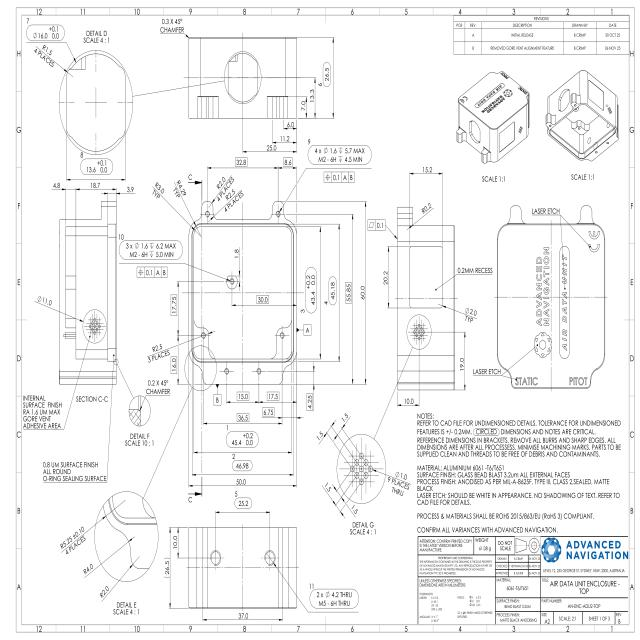dimension: (117, 232, 183, 261), (306, 138, 373, 166), (309, 581, 360, 610), (58, 522, 88, 557), (24, 17, 66, 42), (78, 151, 114, 177), (299, 266, 318, 315), (224, 424, 259, 449), (386, 467, 412, 496), (214, 171, 237, 203), (33, 43, 56, 68), (146, 342, 171, 364), (223, 188, 245, 213), (145, 377, 171, 397), (322, 275, 337, 307), (159, 16, 185, 34), (167, 528, 180, 562), (232, 490, 253, 510), (232, 452, 254, 471), (318, 60, 332, 88), (456, 266, 494, 276), (461, 305, 479, 326), (171, 178, 188, 200), (34, 293, 54, 310), (152, 179, 166, 200), (161, 557, 171, 580), (419, 201, 433, 215), (82, 561, 95, 576), (98, 585, 110, 601), (170, 293, 178, 316), (344, 281, 352, 304), (235, 390, 250, 402), (266, 390, 280, 402), (235, 412, 250, 423), (233, 156, 248, 167), (306, 392, 314, 412), (235, 610, 249, 621), (381, 270, 390, 287), (458, 357, 468, 372), (322, 482, 333, 495), (261, 407, 275, 417), (256, 294, 270, 304), (348, 501, 358, 515), (282, 156, 294, 167), (402, 396, 415, 406), (308, 88, 316, 104), (170, 356, 177, 374), (358, 285, 366, 300), (279, 134, 291, 144), (265, 143, 278, 152), (315, 429, 324, 442), (232, 245, 240, 259), (422, 164, 433, 174), (88, 181, 100, 190), (235, 477, 247, 486), (341, 412, 350, 424), (125, 185, 136, 194), (286, 120, 296, 129), (52, 181, 61, 190), (300, 100, 306, 112)
